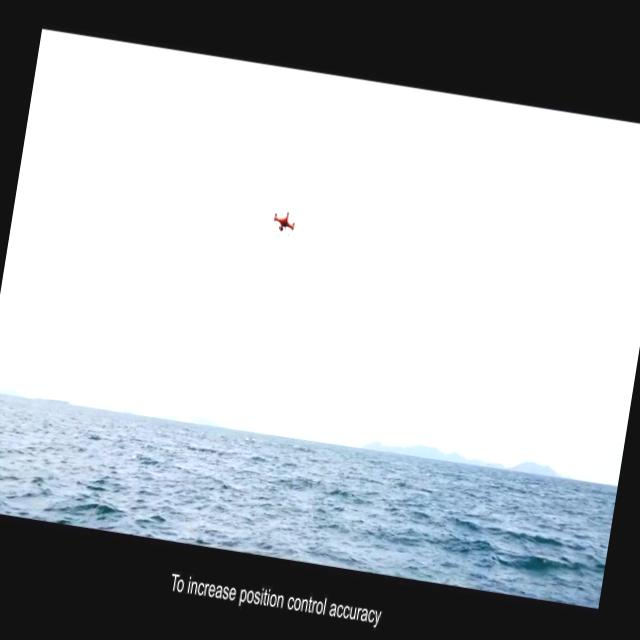drone: (268, 203, 300, 246)
